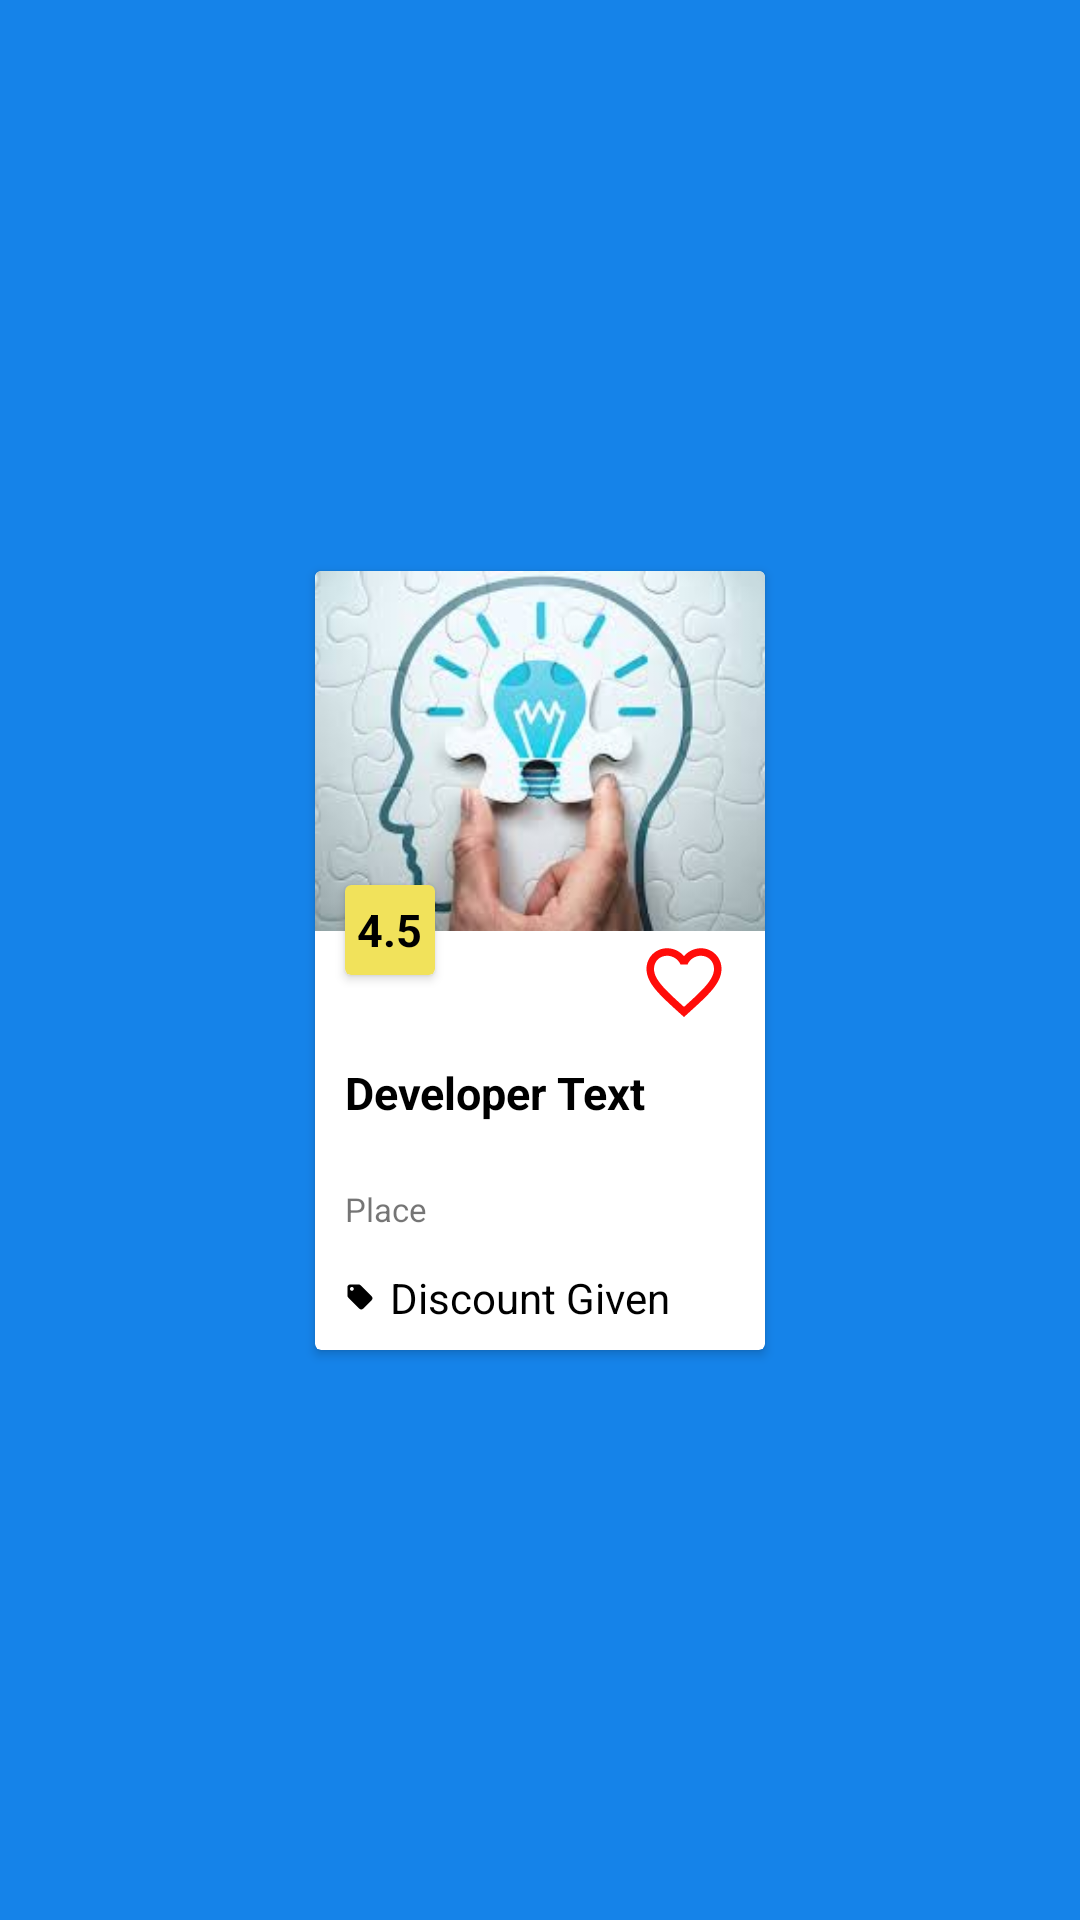

Icons on this 1080×1920 Android screen, each with its box as (x1, y1, x2, y2):
un favorite: (646, 948, 722, 1017)
